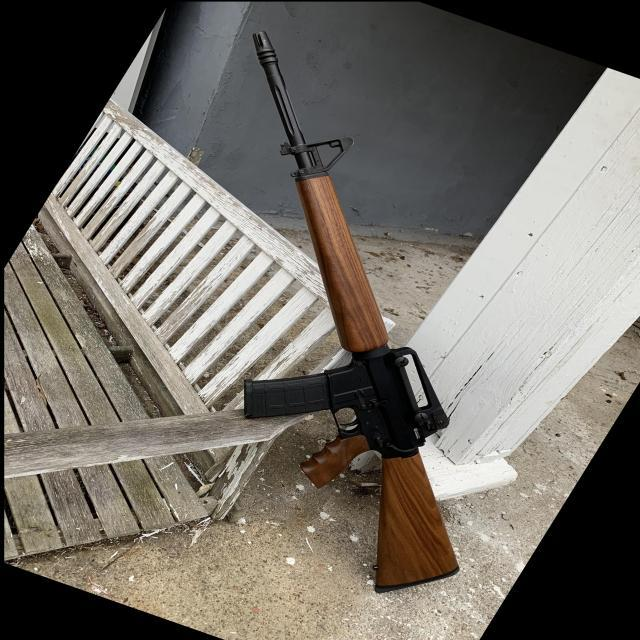weapon: (243, 28, 461, 595)
